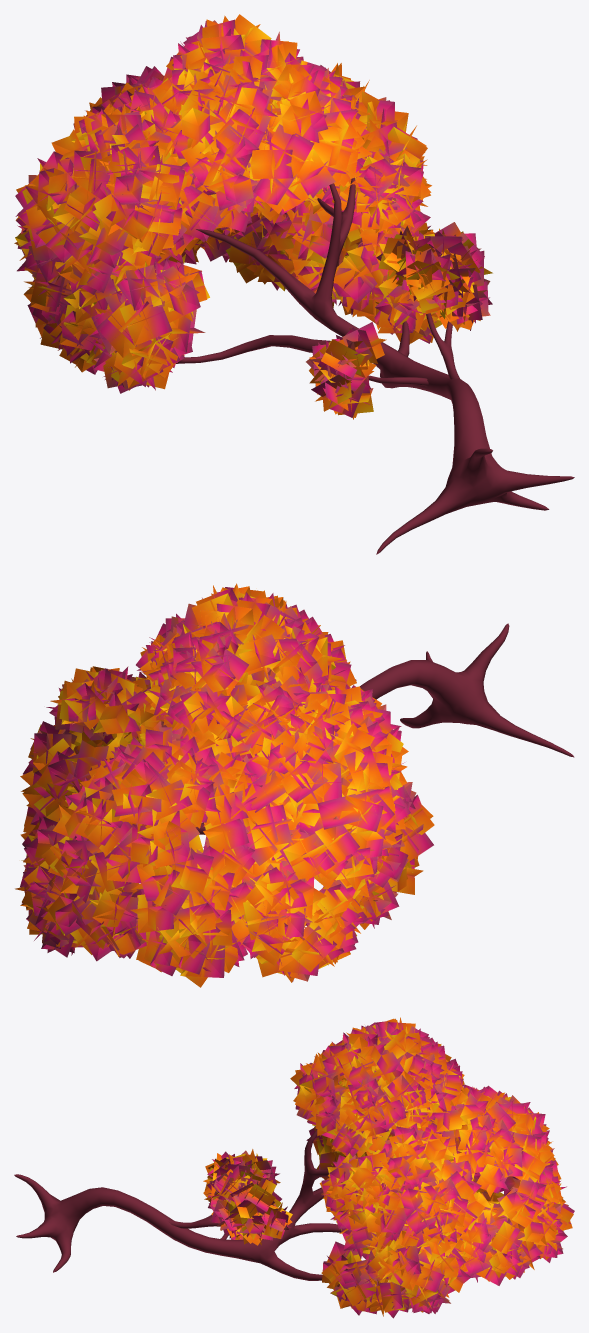
File: Tree3.fbx
The picture shows the model from 3 angles, top to bottom: view 1: azimuth 30°, elevation 25°; view 2: azimuth 150°, elevation 25°; view 3: azimuth 270°, elevation 25°; orthographic projection. The views are drawn at different scales.
Parts seen in each view (by area): view 1: Leaves.006, Plane.009, Plane.038, Plane.039, Cube.026; view 2: Leaves.006, Plane.009; view 3: Leaves.006, Plane.009, Plane.038.
Boxes of the visible parts, x1,y1,x2,y2 form: Leaves.006: [14, 14, 441, 393]; Plane.009: [176, 177, 574, 554]; Plane.038: [376, 222, 492, 331]; Plane.039: [306, 322, 386, 419]; Cube.026: [426, 313, 459, 379]; Leaves.006: [15, 583, 434, 987]; Plane.009: [195, 623, 574, 834]; Leaves.006: [290, 1017, 574, 1318]; Plane.009: [14, 1129, 341, 1280]; Plane.038: [203, 1149, 292, 1245].
Bounding box in the file's own units: 565 × 466 × 992.
